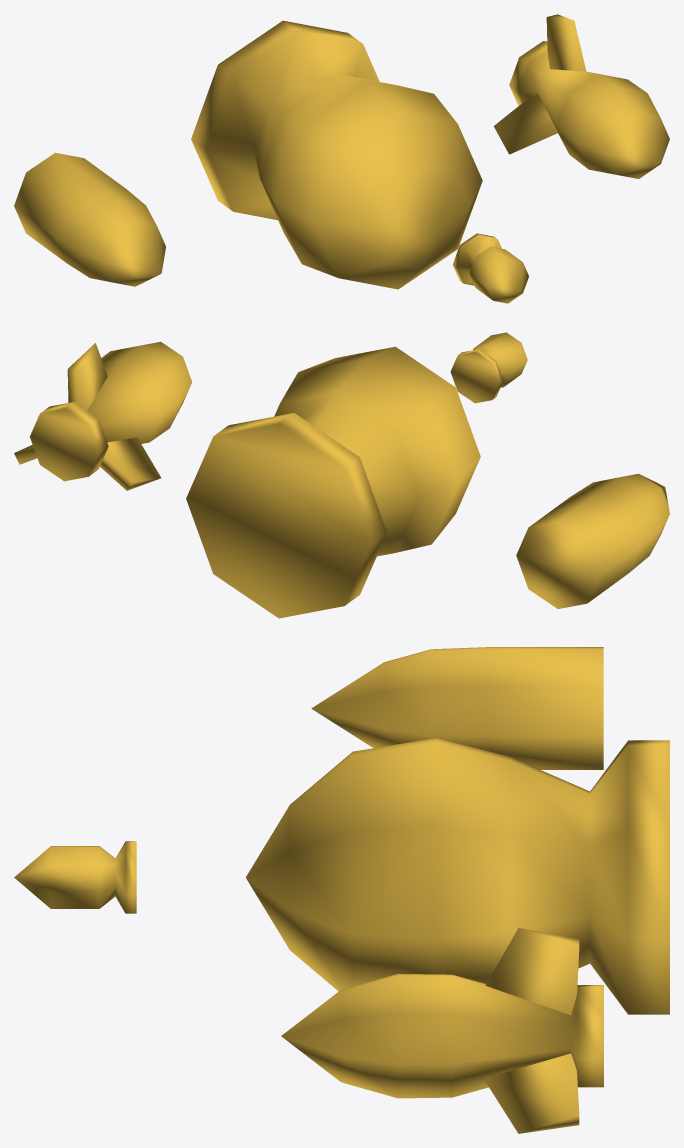
File: Shells.fbx
The picture shows the model from 3 angles, top to bottom: view 1: azimuth 30°, elevation 25°; view 2: azimuth 150°, elevation 25°; view 3: azimuth 270°, elevation 25°; orthographic projection. The views are drawn at different scales.
Parts seen in each view (by area): view 1: Shell CB Shadow, Shell HE Shadow, Shell Shadow, Shell CB Fragment Shadow; view 2: Shell CB Shadow, Shell HE Shadow, Shell Shadow, Shell CB Fragment Shadow; view 3: Shell CB Shadow, Shell HE Shadow, Shell Shadow, Shell CB Fragment Shadow.
Part boxes in pixels (left/top/right/bottom): Shell CB Shadow: left=191, top=20, right=482, bottom=289; Shell HE Shadow: left=493, top=14, right=669, bottom=178; Shell Shadow: left=14, top=152, right=165, bottom=286; Shell CB Fragment Shadow: left=452, top=233, right=528, bottom=303; Shell CB Shadow: left=186, top=346, right=480, bottom=618; Shell HE Shadow: left=14, top=341, right=191, bottom=490; Shell Shadow: left=516, top=473, right=669, bottom=608; Shell CB Fragment Shadow: left=450, top=332, right=527, bottom=403; Shell CB Shadow: left=246, top=738, right=669, bottom=1014; Shell HE Shadow: left=281, top=928, right=603, bottom=1133; Shell Shadow: left=311, top=647, right=603, bottom=769; Shell CB Fragment Shadow: left=14, top=841, right=136, bottom=913.
Size of the model in its own units: 186 by 58.59 by 130.
